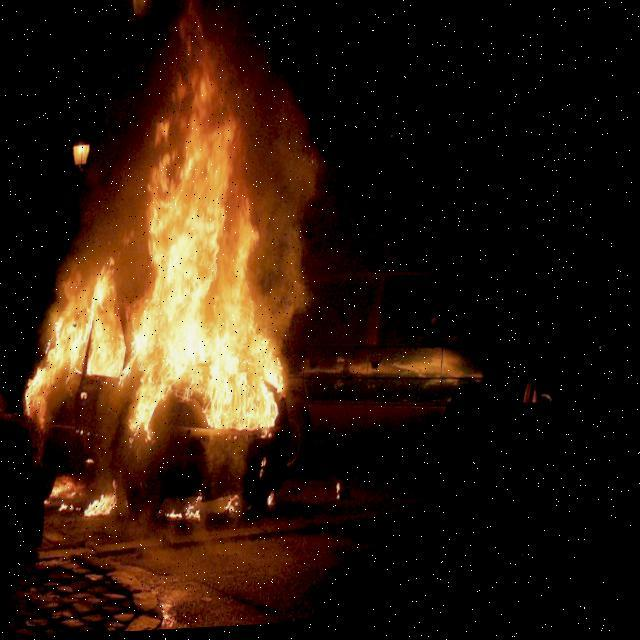Fire: (15, 18, 314, 536)
